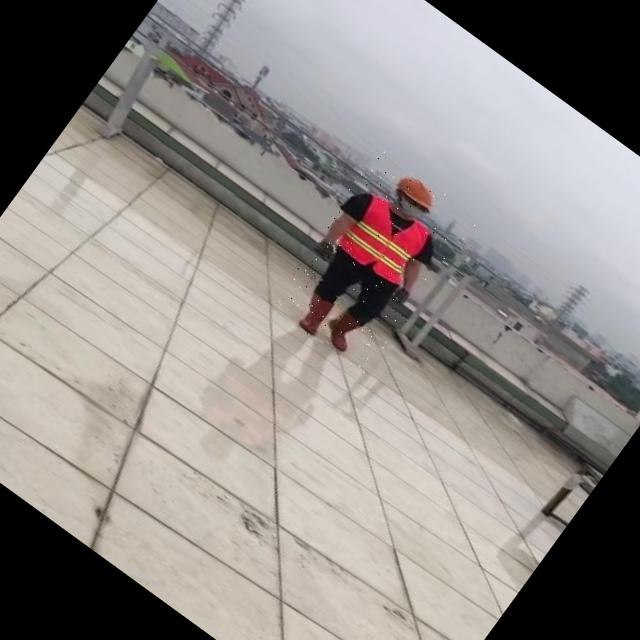hard_hat: (390, 168, 443, 215)
safety_vest: (337, 190, 434, 285)
vehicle: (264, 146, 480, 378)
work_boots: (316, 303, 368, 357), (289, 290, 336, 338)
